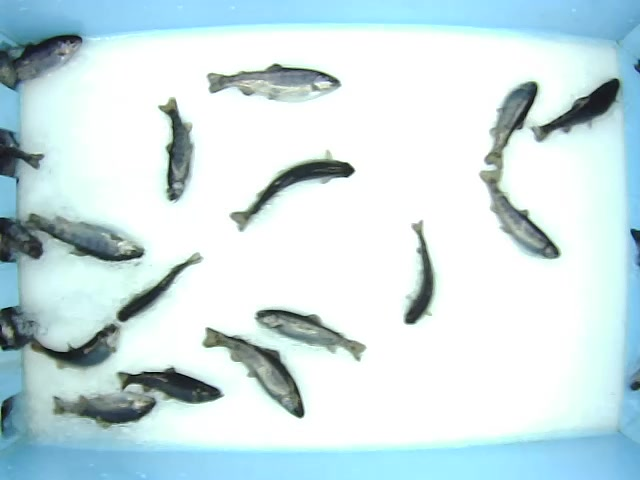fish: (228, 148, 356, 236), (201, 326, 304, 421), (477, 167, 561, 258), (22, 209, 147, 263), (115, 248, 203, 323), (253, 307, 367, 362), (532, 77, 621, 143), (205, 61, 341, 104), (476, 78, 540, 168), (26, 318, 122, 373), (155, 96, 195, 205), (115, 366, 226, 404), (50, 394, 156, 429), (403, 217, 435, 328)
